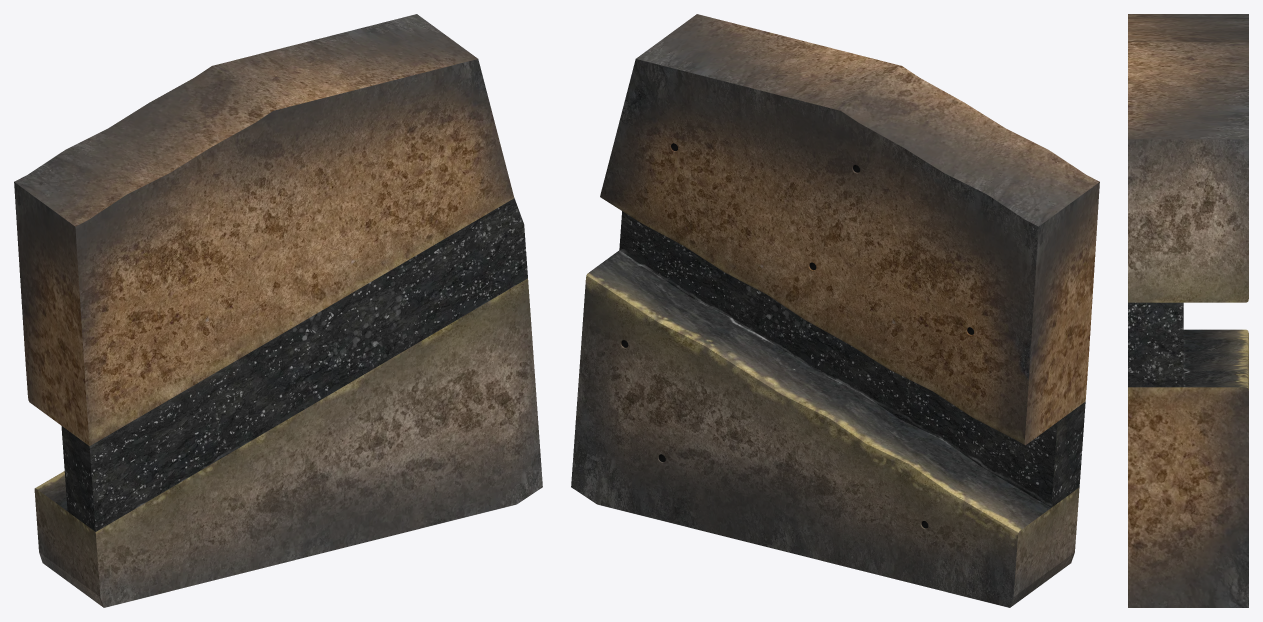
File: Slope18.glb
3 renders of one model, left to right at view 1: azimuth 30°, elevation 25°; view 2: azimuth 150°, elevation 25°; view 3: azimuth 270°, elevation 25°, orthographic.
Visible parts, largest first — view 1: Slope18; view 2: Slope18; view 3: Slope18.
Boxes of the visible parts, box(x1,y1,x2,y2) form: Slope18: box(14, 14, 542, 607); Slope18: box(571, 14, 1099, 607); Slope18: box(1128, 14, 1248, 607).
Bounding box in the file's own units: 2.53 × 2.37 × 0.5755.
1 material, 1 textured.
